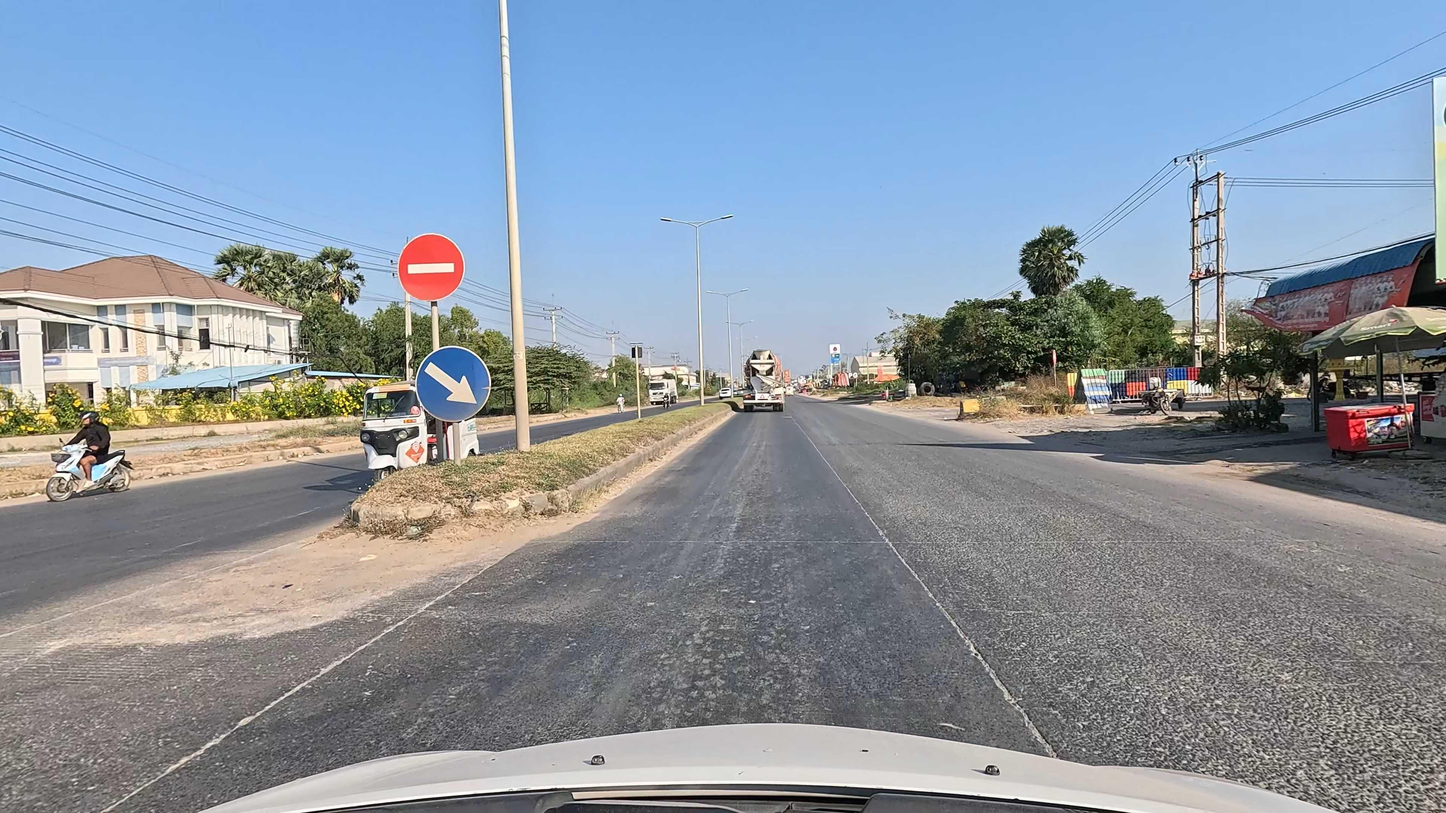keep_right: (416, 346, 492, 423)
no_entry: (396, 232, 467, 302)
